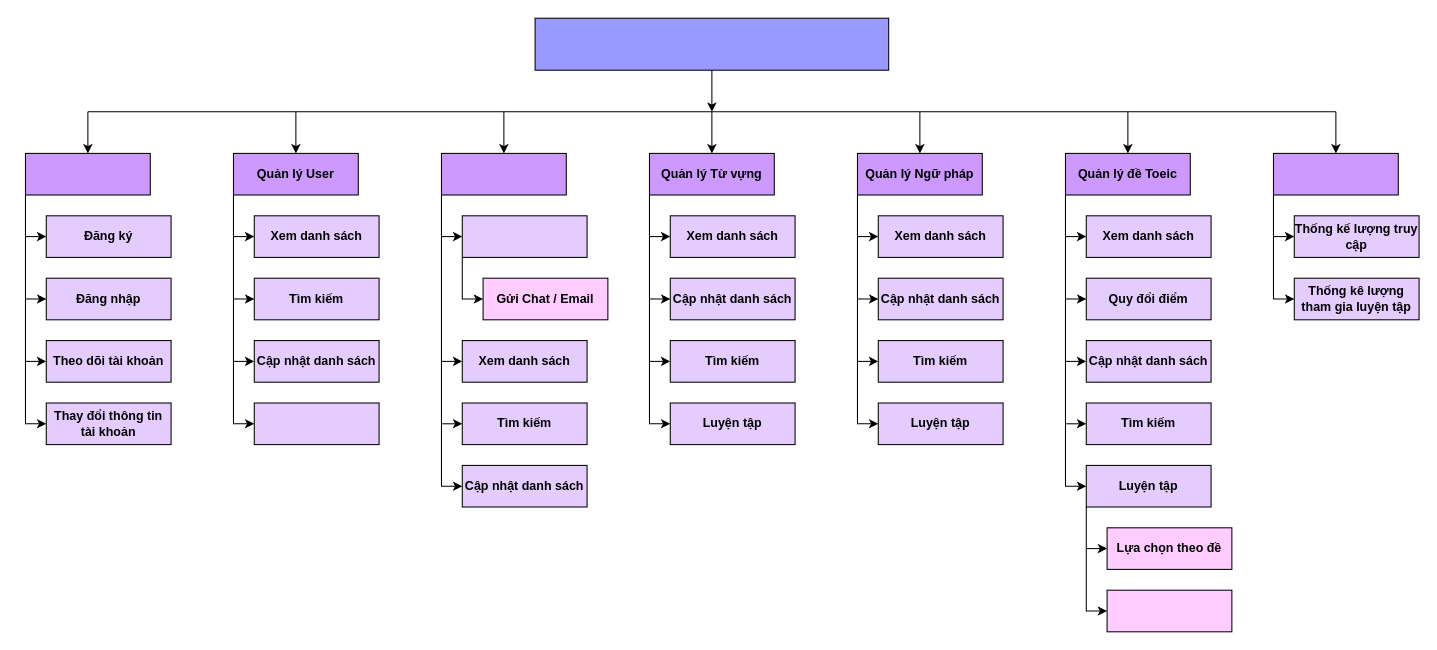
The diagram is 1437 pixels wide and 650 high, and some of its shapes have lost their labels. Here are the shapes that lost their labels. From the top down, the centre of each, then its label:
At [711,43]: "Quản lý Hệ thống Luyện tập Tiếng Anh Online".
At [87,173]: "Quản lý Tài khoản".
At [503,173]: "Quản lý Hỏi đáp".
At [1335,173]: "Quản lý lưu lượng hệ thống".
At [524,236]: "Phản hồi ý kiến".
At [316,423]: "Cập nhật phân quyền".
At [1169,610]: "Lựa chọn theo part".
